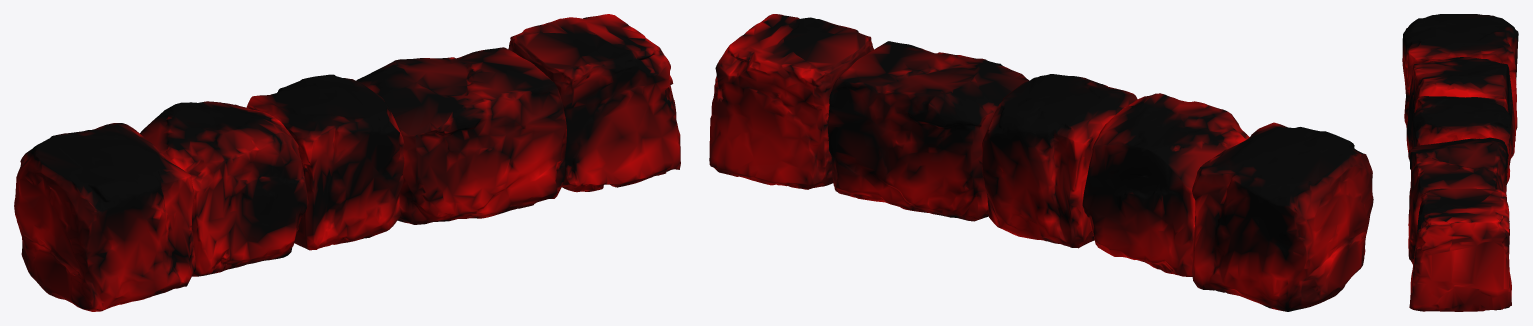
File: SM_Stone_Border_01.fbx
The picture shows the model from 3 angles, left to right: view 1: azimuth 30°, elevation 25°; view 2: azimuth 150°, elevation 25°; view 3: azimuth 270°, elevation 25°; orthographic projection. The views are drawn at different scales.
Visible parts, largest first — view 1: SM_Stone_Border_01_LOD0; view 2: SM_Stone_Border_01_LOD0; view 3: SM_Stone_Border_01_LOD0.
Boxes of the visible parts, left/top/right/bottom form: SM_Stone_Border_01_LOD0: left=14, top=14, right=680, bottom=311; SM_Stone_Border_01_LOD0: left=709, top=14, right=1373, bottom=311; SM_Stone_Border_01_LOD0: left=1402, top=14, right=1518, bottom=311.
Bounding box in the file's own units: 302 × 69.78 × 65.68.
